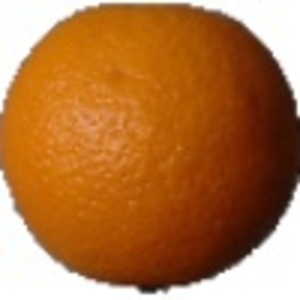laranja: (2, 5, 295, 296)
